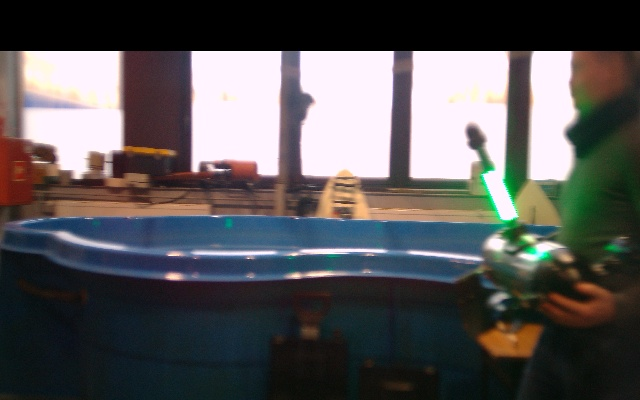green: (481, 170, 520, 223)
